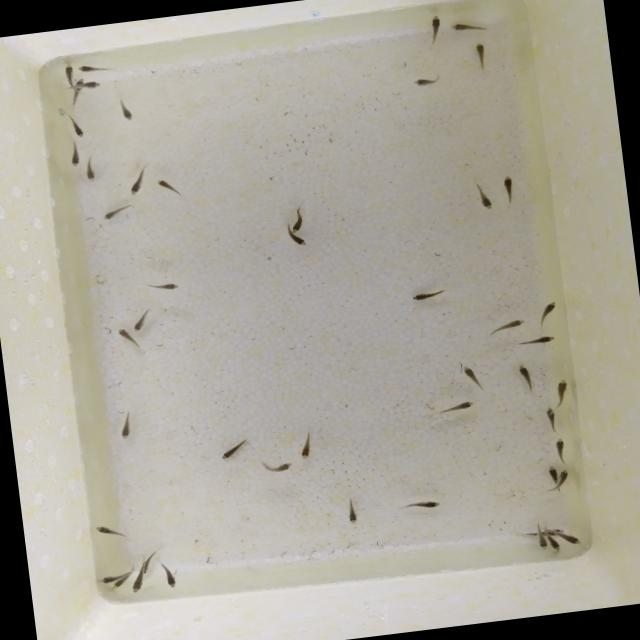fingerling: (92, 518, 126, 543), (216, 438, 254, 460), (438, 398, 482, 413), (468, 39, 493, 65), (516, 360, 536, 392), (490, 318, 530, 334), (296, 434, 318, 463), (456, 362, 481, 387), (256, 460, 300, 474), (448, 21, 494, 34), (152, 176, 183, 194), (499, 172, 519, 198), (146, 278, 178, 294), (100, 205, 134, 220), (115, 324, 138, 346), (411, 498, 447, 512), (128, 171, 146, 199), (407, 73, 436, 90), (58, 61, 78, 85), (560, 530, 586, 548), (551, 378, 572, 400), (473, 188, 494, 210), (132, 310, 151, 334), (115, 418, 134, 442), (428, 14, 444, 42), (538, 298, 558, 320), (116, 100, 134, 124), (409, 290, 442, 302), (98, 570, 126, 584), (285, 231, 308, 248), (288, 215, 306, 236), (345, 500, 359, 526), (543, 406, 559, 428), (164, 568, 180, 590), (552, 437, 568, 458), (528, 334, 556, 346), (72, 119, 85, 143), (79, 78, 105, 90), (76, 64, 102, 76), (555, 470, 572, 486), (548, 534, 562, 553), (132, 572, 144, 594), (84, 164, 98, 182), (70, 146, 80, 168), (536, 532, 548, 550), (546, 463, 556, 480), (110, 579, 124, 590), (140, 561, 150, 575)
